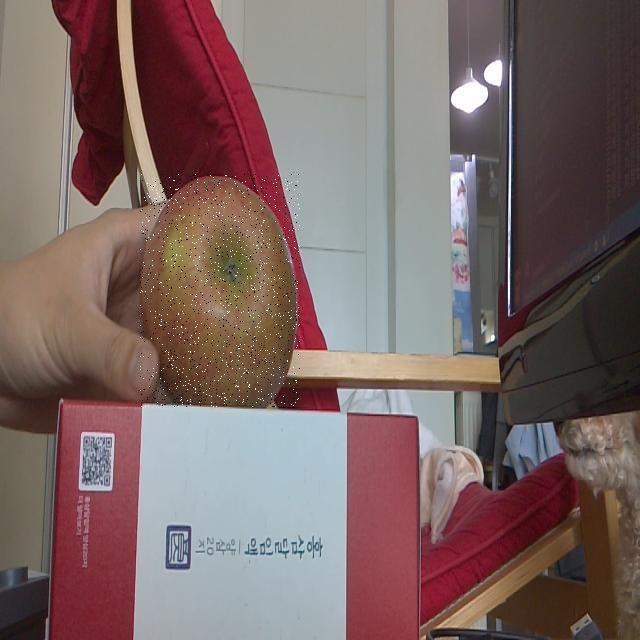apple: (140, 174, 300, 407)
